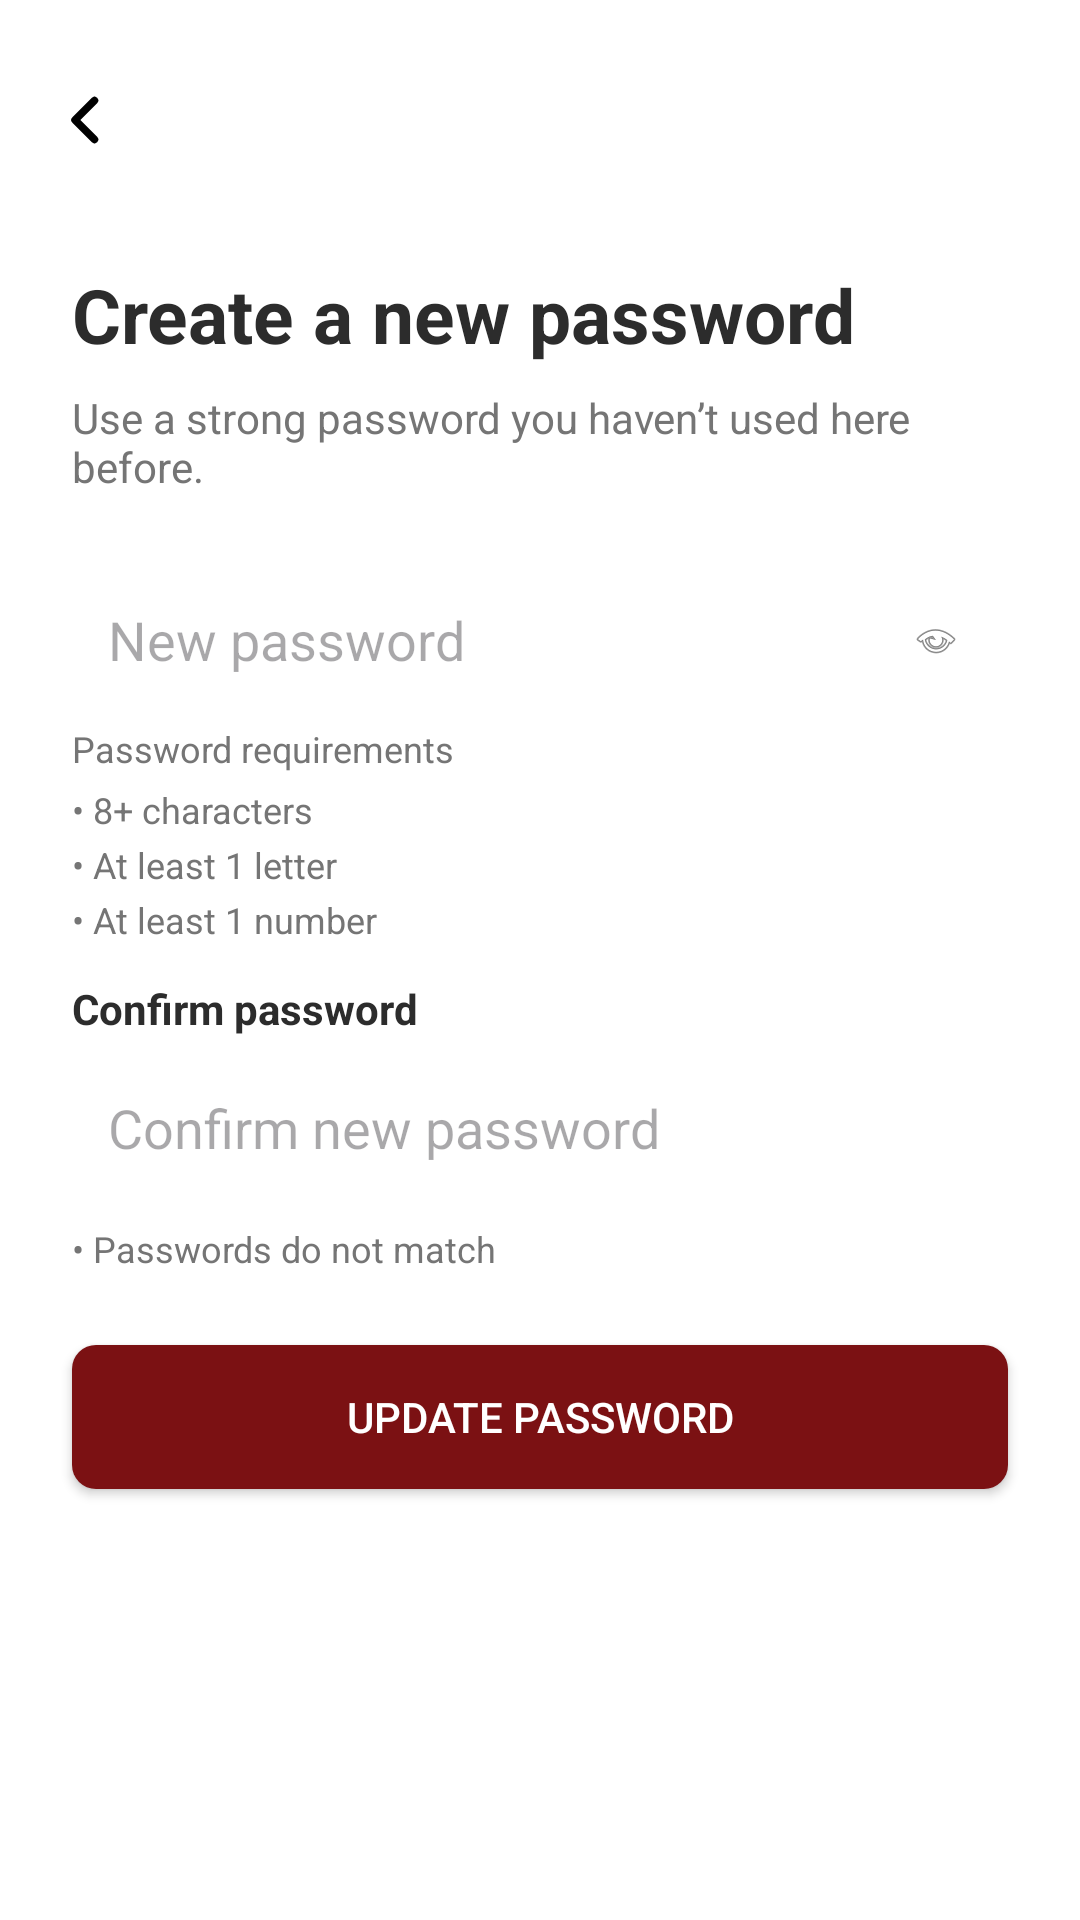

Named icons in this screenshot (1080px x 1920px) and their bounding boxes, (x1, y1, x2, y2):
Back: (71, 96, 99, 144)
Show/Hide Password: (916, 629, 956, 654)
